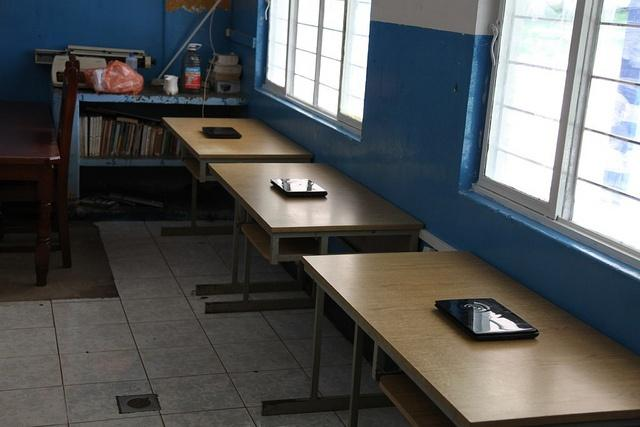Meja: (297, 249, 638, 426), (207, 161, 426, 261), (160, 115, 314, 164)
